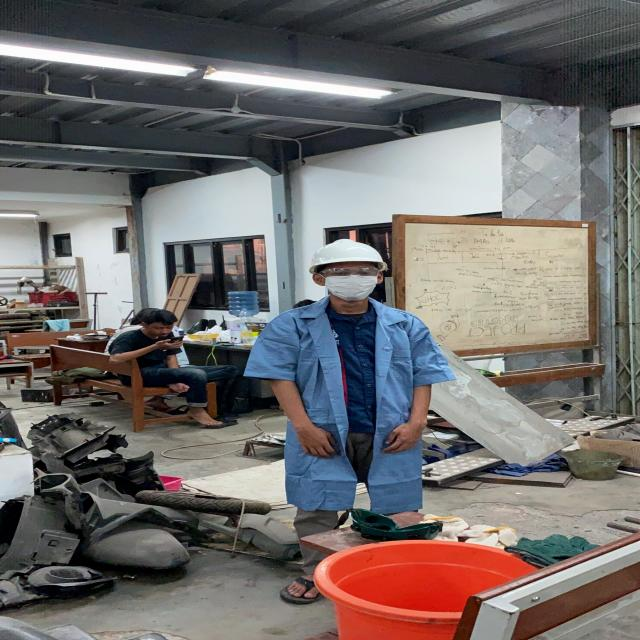face_mask: (320, 266, 381, 304)
face_nomask: (151, 324, 175, 337)
glasses: (315, 265, 381, 279)
hand_noglove: (292, 422, 342, 458), (378, 419, 426, 455), (155, 338, 186, 351)
head_helmet: (304, 238, 390, 270)
head_nohelmet: (140, 308, 180, 327)
person: (242, 235, 450, 606), (104, 307, 245, 431)
